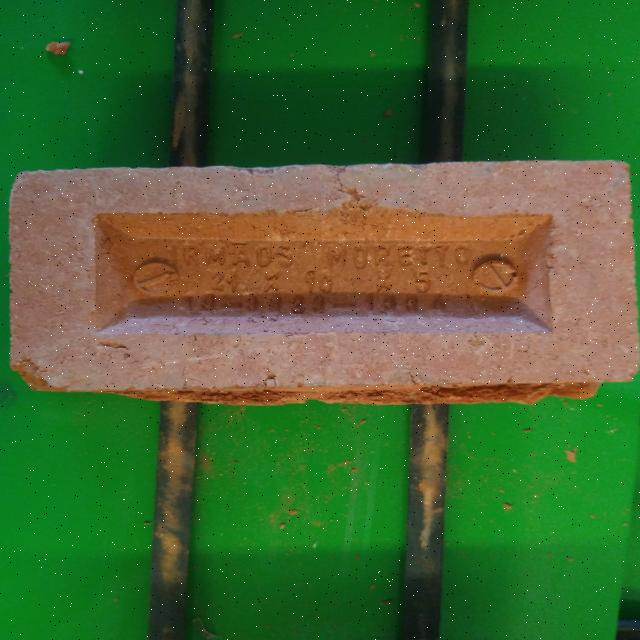bricks_ruin: (7, 158, 640, 406)
